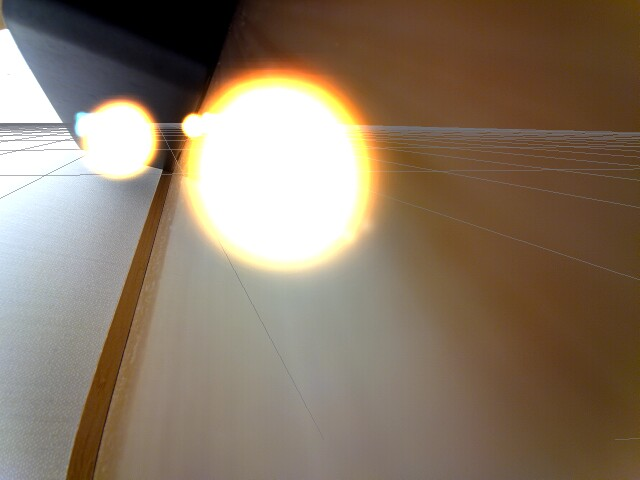firebig: (196, 68, 381, 277)
